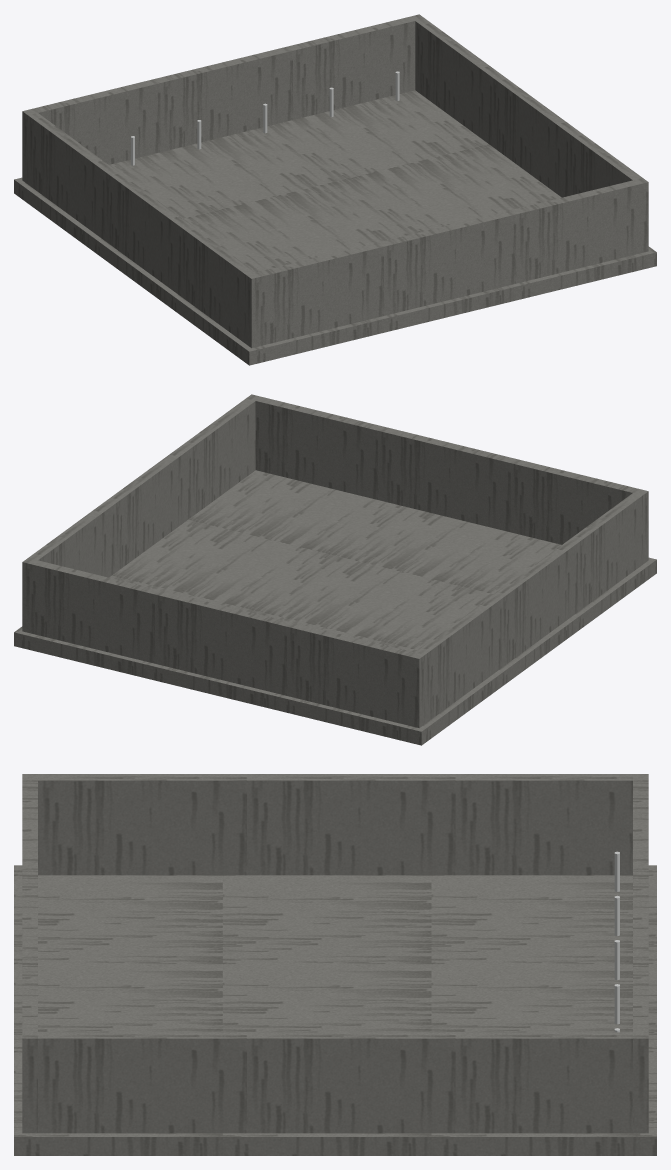
Rendered from roof_parapet.glb.
3 renders of one model, top to bottom at view 1: azimuth 30°, elevation 25°; view 2: azimuth 150°, elevation 25°; view 3: azimuth 270°, elevation 25°, orthographic. The views are drawn at different scales.
Parts seen in each view (by area): view 1: roof_parapet; view 2: roof_parapet; view 3: roof_parapet.
Part boxes in pixels (box(x1,y1,x2,y2)): roof_parapet: box(14, 14, 656, 365); roof_parapet: box(14, 394, 656, 745); roof_parapet: box(14, 774, 656, 1155).
Bounding box in the file's own units: 6.16 × 1.2 × 6.16.
Materials: 3 (2 with a texture image).
